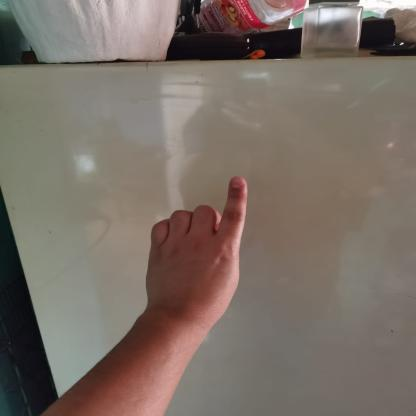T: (138, 174, 250, 321)
